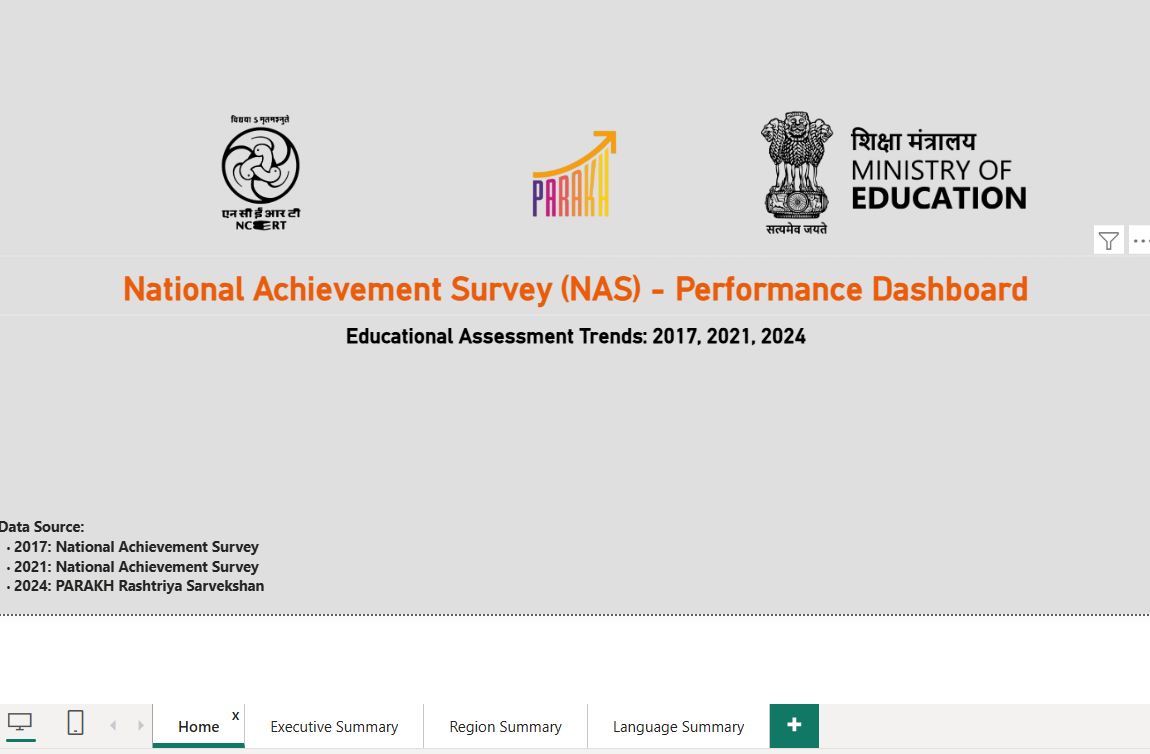

This screenshot's page, from the dashboard's own definition file:
{"tool":"powerbi","page":{"name":"Home","canvas":[1280,720],"ordinal":0},"visuals":[{"type":"image","box":[838.4,160.5,300.5,150.9],"z":0},{"type":"card","fields":{"Values":["NAS & Parakh Data Combined.Title"]},"box":[0,326.6,1280.3,65.9],"z":1000},{"type":"image","box":[488.5,161.9,300.5,149.6],"z":2000},{"type":"image","box":[144.1,163.3,300.5,149.6],"z":3000},{"type":"card","fields":{"Values":["NAS & Parakh Data Combined.Subtitle"]},"box":[0,392.5,1280.3,43.9],"z":4000},{"type":"textbox","box":[0,607.5,317,112.5],"z":5000}]}

Visuals, with their boxes on the page's 1280x720 design canvas (x1, y1, x2, y2). These are canvas units, not pixel positions in the 1150x754 screenshot, which may show the page scaled, cropped or inside an application window:
image: [left=838, top=160, right=1139, bottom=311]
card - NAS & Parakh Data Combined.Title: [left=0, top=327, right=1280, bottom=392]
image: [left=488, top=162, right=789, bottom=312]
image: [left=144, top=163, right=445, bottom=313]
card - NAS & Parakh Data Combined.Subtitle: [left=0, top=392, right=1280, bottom=436]
textbox: [left=0, top=608, right=317, bottom=720]
